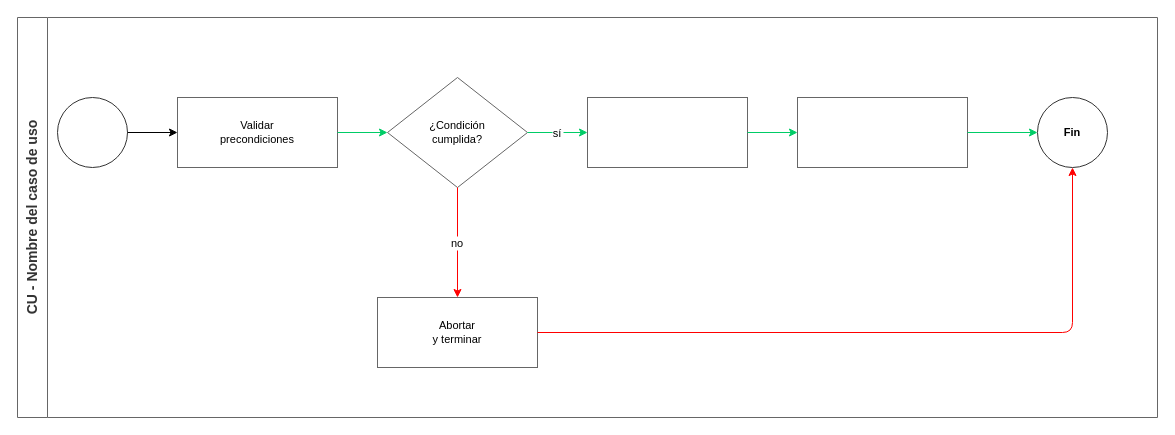
Some shapes in this 1175 by 435 pixel diagram are drawn without their labels. The shapes that lost their labels are listed below. From the top down, each one's centre as x and y in pixels, then its label:
At [92,132]: "Inicio".
At [667,132]: "Ejecutar la acción".
At [882,132]: "Publicar resultado set_stats".
